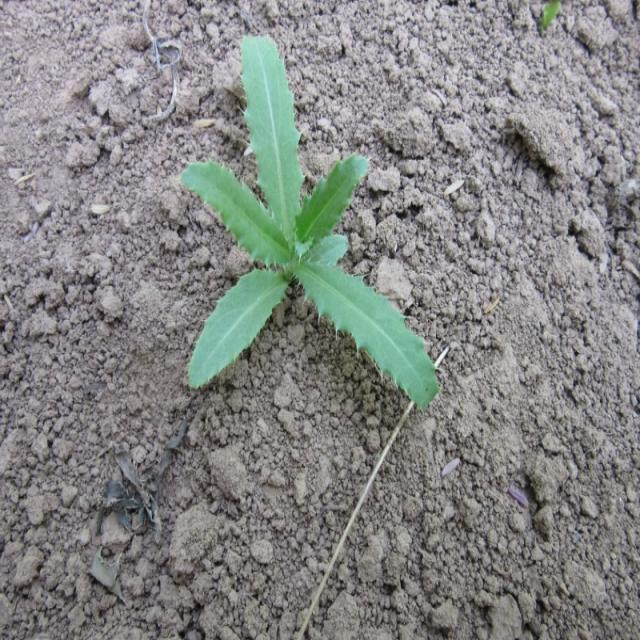field_thistle: (202, 29, 416, 422)
